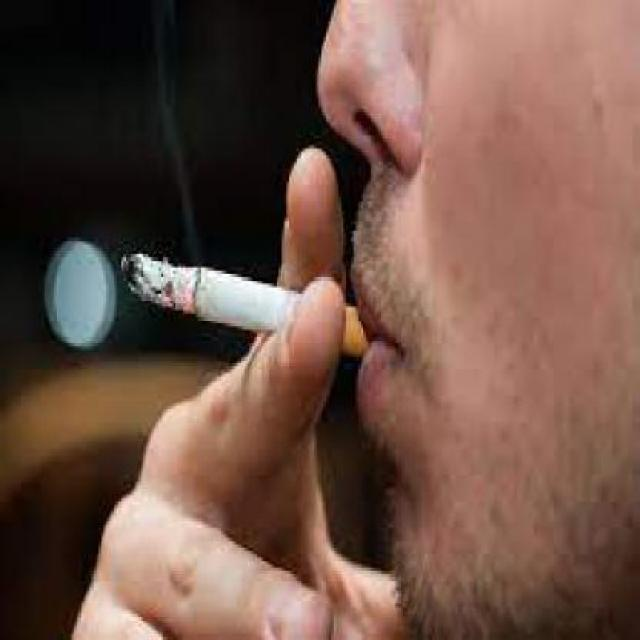cigarette: (118, 245, 376, 357)
